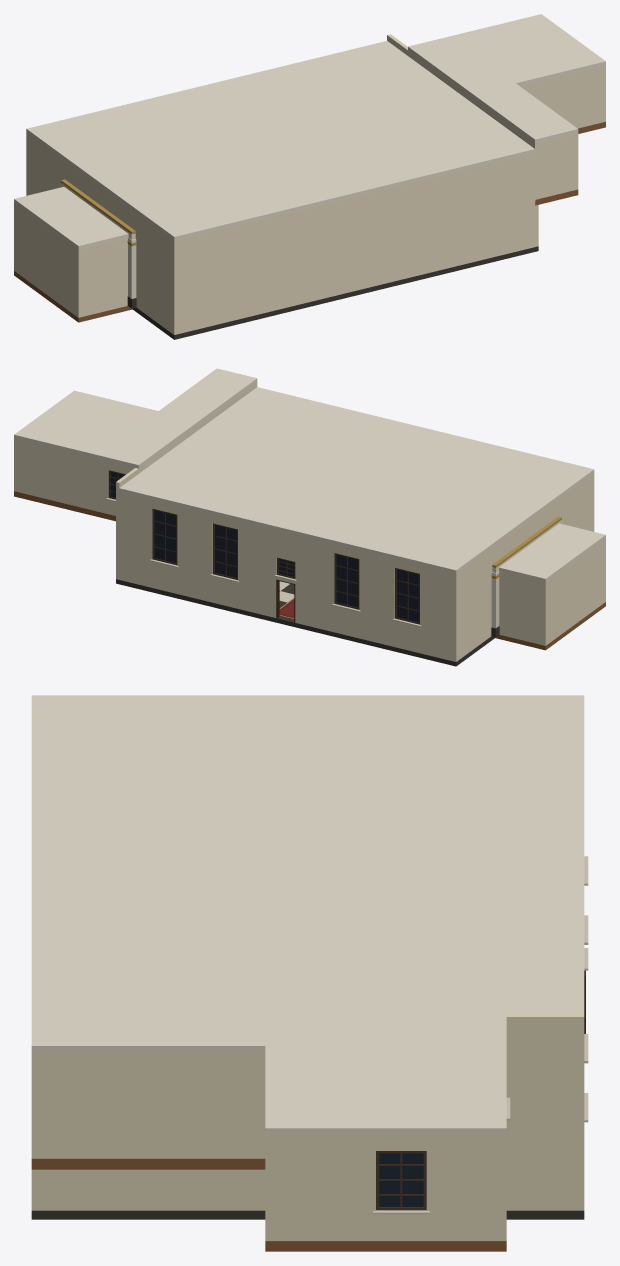
File: Wnetrze_Hotel.fbx
3 renders of one model, top to bottom at view 1: azimuth 30°, elevation 25°; view 2: azimuth 150°, elevation 25°; view 3: azimuth 270°, elevation 25°, orthographic. The views are drawn at different scales.
Visible parts, largest first — view 1: Hotel_Sufit_NOCOL, Hotel_Sciany, Hotel_Podloga, Hotel_Boazeria; view 2: Hotel_Sufit_NOCOL, Hotel_Sciany, Hotel_Okna, Hotel_Podloga, Hotel_Detal_NOCOL, Hotel_Boazeria; view 3: Hotel_Sufit_NOCOL, Hotel_Sciany, Hotel_Podloga, Hotel_Detal_NOCOL, Hotel_Okna.
Boxes of the visible parts, x1,y1,x2,y2 form: Hotel_Sufit_NOCOL: (14,14,605,249); Hotel_Sciany: (14,34,605,334); Hotel_Podloga: (14,121,605,339); Hotel_Boazeria: (127,237,136,308); Hotel_Sufit_NOCOL: (14,368,605,582); Hotel_Sciany: (14,382,605,661); Hotel_Okna: (110,471,418,622); Hotel_Podloga: (14,491,605,666); Hotel_Detal_NOCOL: (106,470,499,626); Hotel_Boazeria: (491,571,499,637); Hotel_Sufit_NOCOL: (31,695,584,1135); Hotel_Sciany: (31,1013,584,1240); Hotel_Podloga: (31,1158,584,1251); Hotel_Detal_NOCOL: (373,856,588,1214); Hotel_Okna: (379,1153,423,1206).
Bounding box in the file's own units: 30.5 × 5.95 × 14.3.
